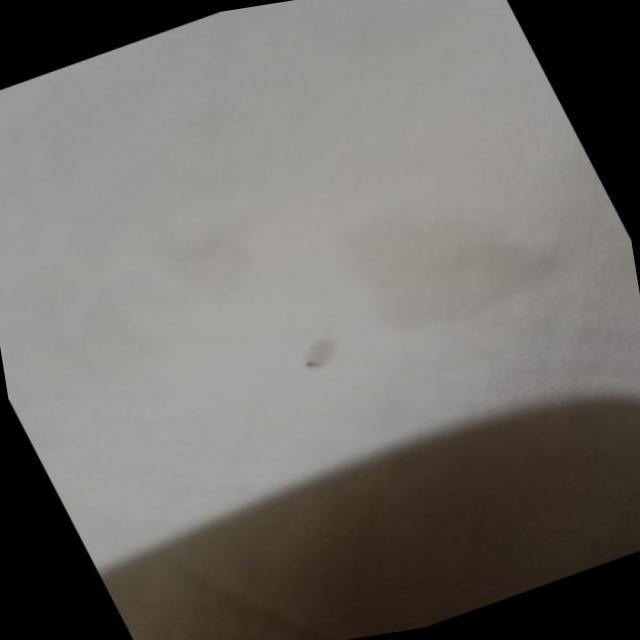stain: (322, 164, 586, 349), (282, 319, 368, 393)
